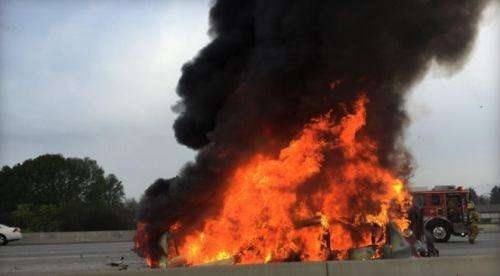fire: (154, 89, 427, 264)
